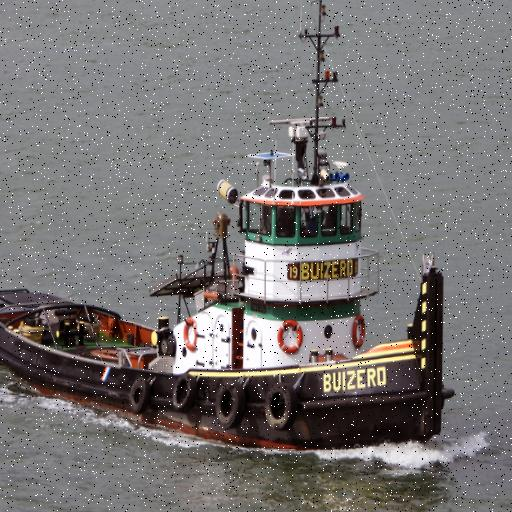tugboat: (1, 103, 457, 468)
